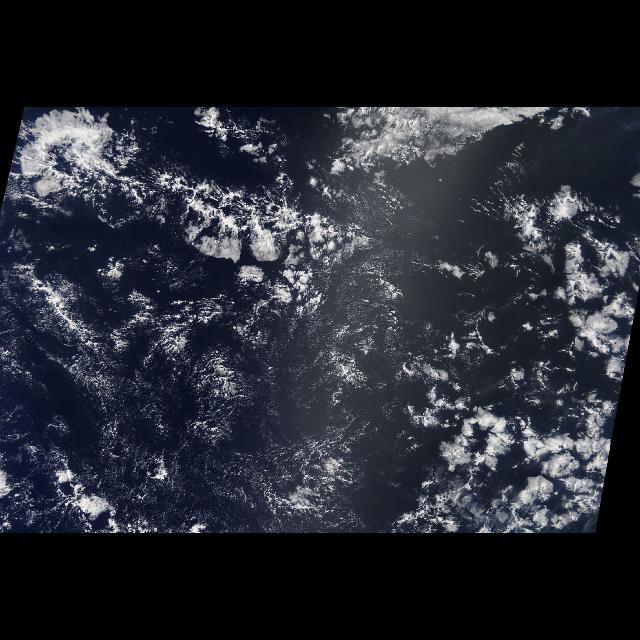Fish: (19, 108, 374, 272)
Sugar: (5, 254, 197, 483), (260, 312, 392, 460)
